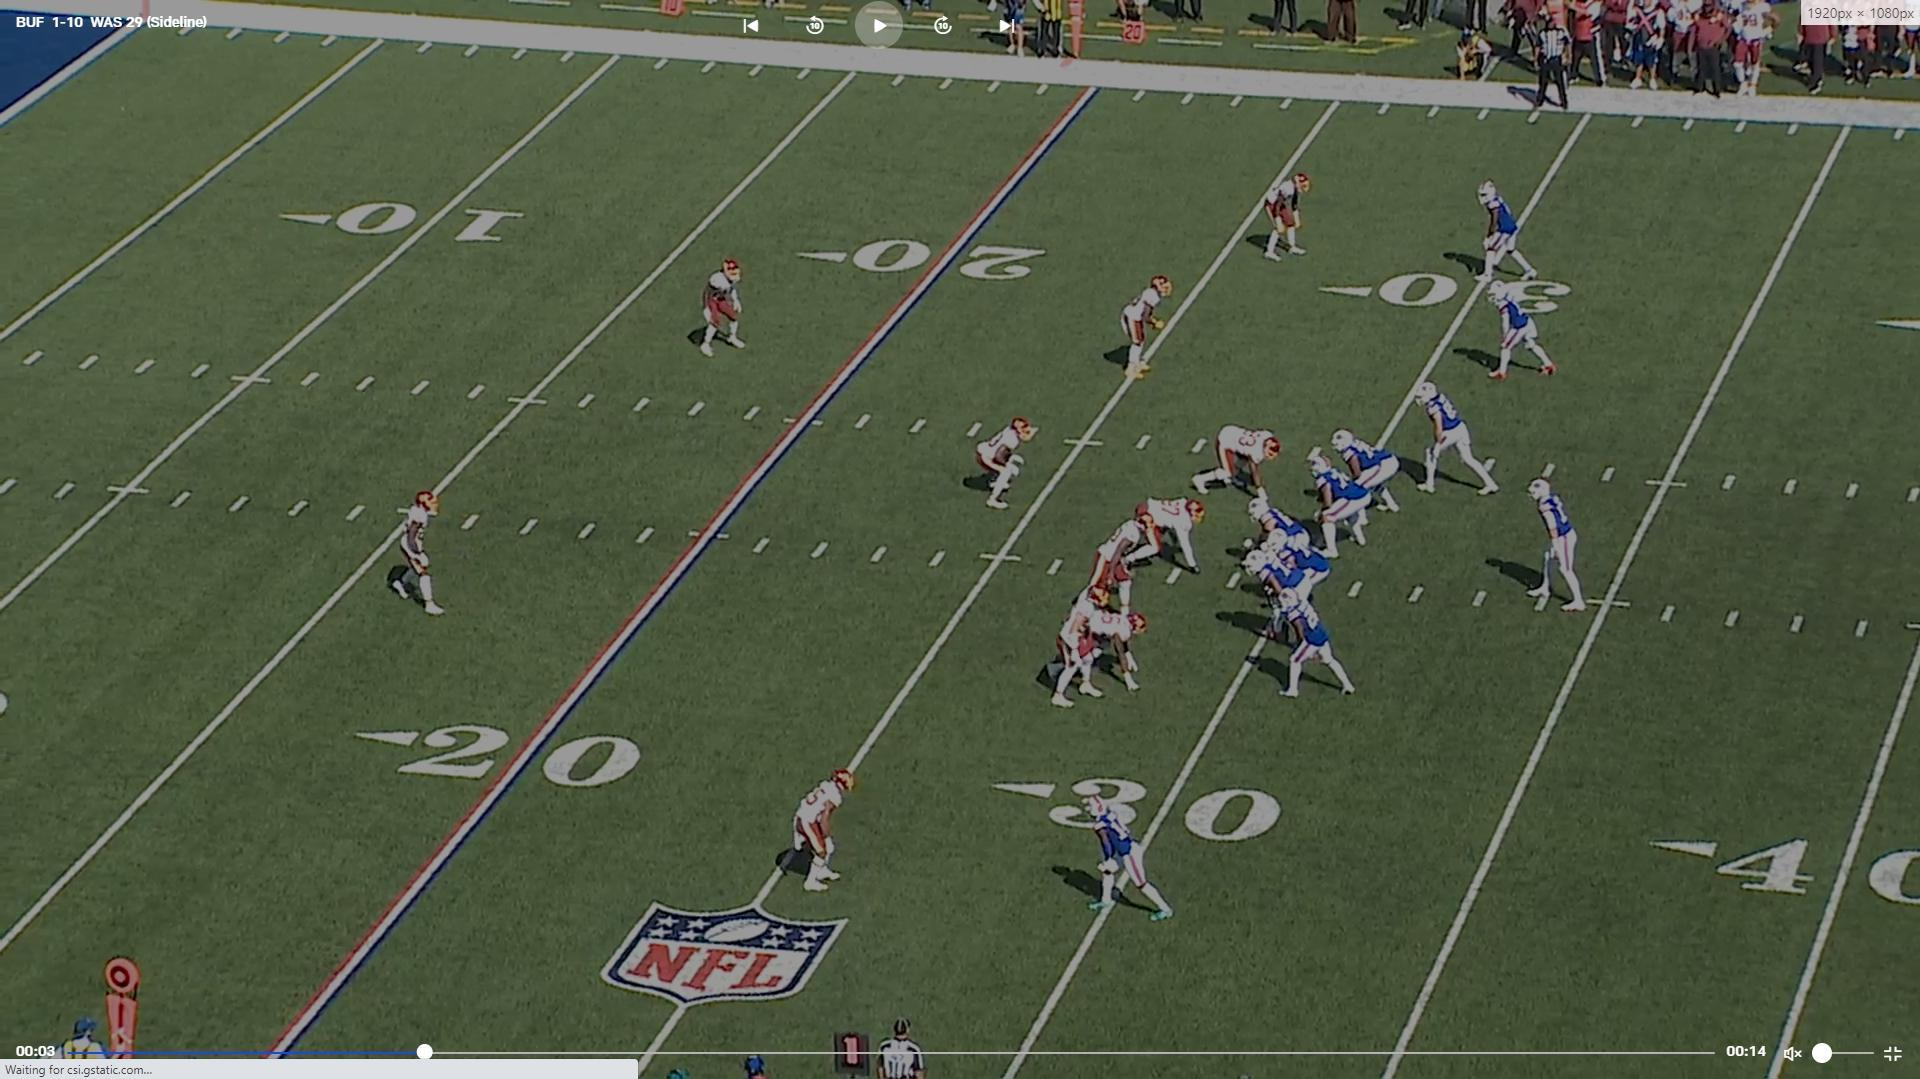defense: (1038, 590, 1149, 712), (1042, 608, 1156, 696), (793, 765, 862, 905), (1104, 270, 1179, 385), (392, 488, 452, 624), (1081, 516, 1151, 625), (1110, 497, 1207, 576), (694, 252, 756, 361), (1195, 426, 1284, 501), (980, 416, 1042, 516), (1261, 170, 1316, 266)
oline: (1249, 553, 1324, 649), (1308, 455, 1374, 557), (1335, 430, 1403, 518), (1266, 532, 1331, 587), (1250, 497, 1309, 550)
qb: (1520, 468, 1585, 611)
ref: (1532, 12, 1580, 115), (868, 1017, 935, 1079)
skill: (1081, 790, 1183, 931), (1416, 376, 1503, 495), (1275, 590, 1357, 702), (1468, 177, 1540, 286), (1482, 290, 1560, 386)
